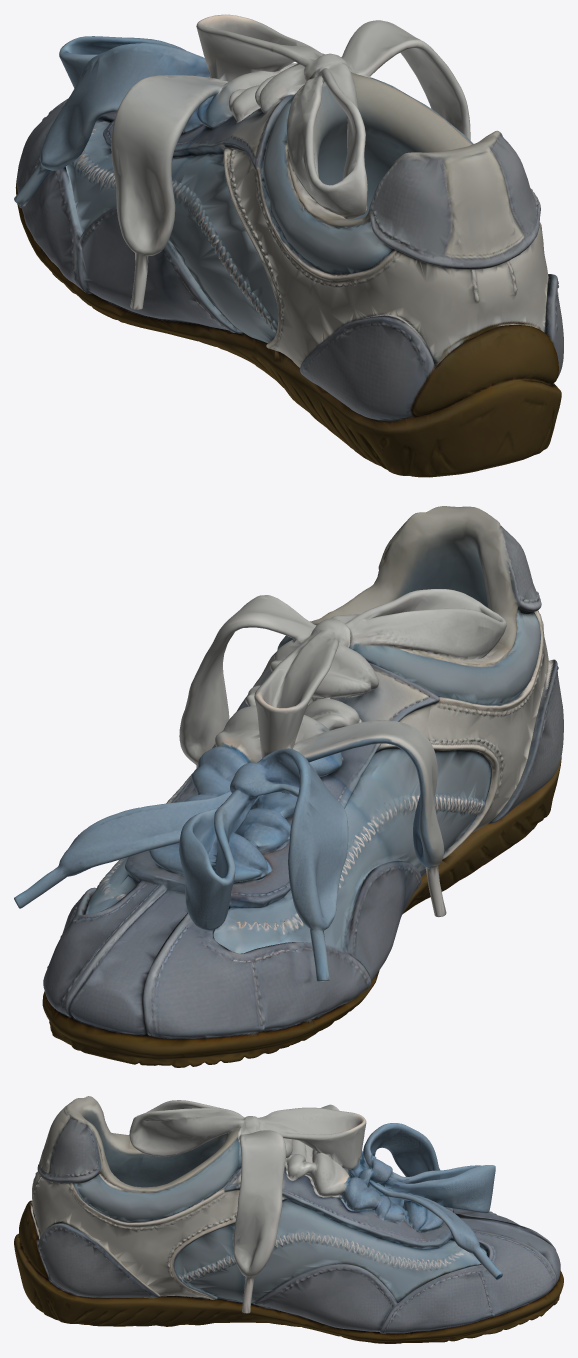
The model's file is blue.glb.
3 renders of one model, top to bottom at view 1: azimuth 30°, elevation 25°; view 2: azimuth 150°, elevation 25°; view 3: azimuth 270°, elevation 25°, orthographic. The views are drawn at different scales.
Visible parts, largest first — view 1: tripo_node_7e1d8422-26f9-469e-9c13-d3e19bbb5263; view 2: tripo_node_7e1d8422-26f9-469e-9c13-d3e19bbb5263; view 3: tripo_node_7e1d8422-26f9-469e-9c13-d3e19bbb5263.
Boxes of the visible parts, x1=… form: tripo_node_7e1d8422-26f9-469e-9c13-d3e19bbb5263: x1=14, y1=14, x2=563, y2=477; tripo_node_7e1d8422-26f9-469e-9c13-d3e19bbb5263: x1=14, y1=506, x2=563, y2=1067; tripo_node_7e1d8422-26f9-469e-9c13-d3e19bbb5263: x1=14, y1=1096, x2=563, y2=1343.
Bounding box in the file's own units: 0.4174 × 0.4006 × 0.9998.
1 material, 1 textured.
